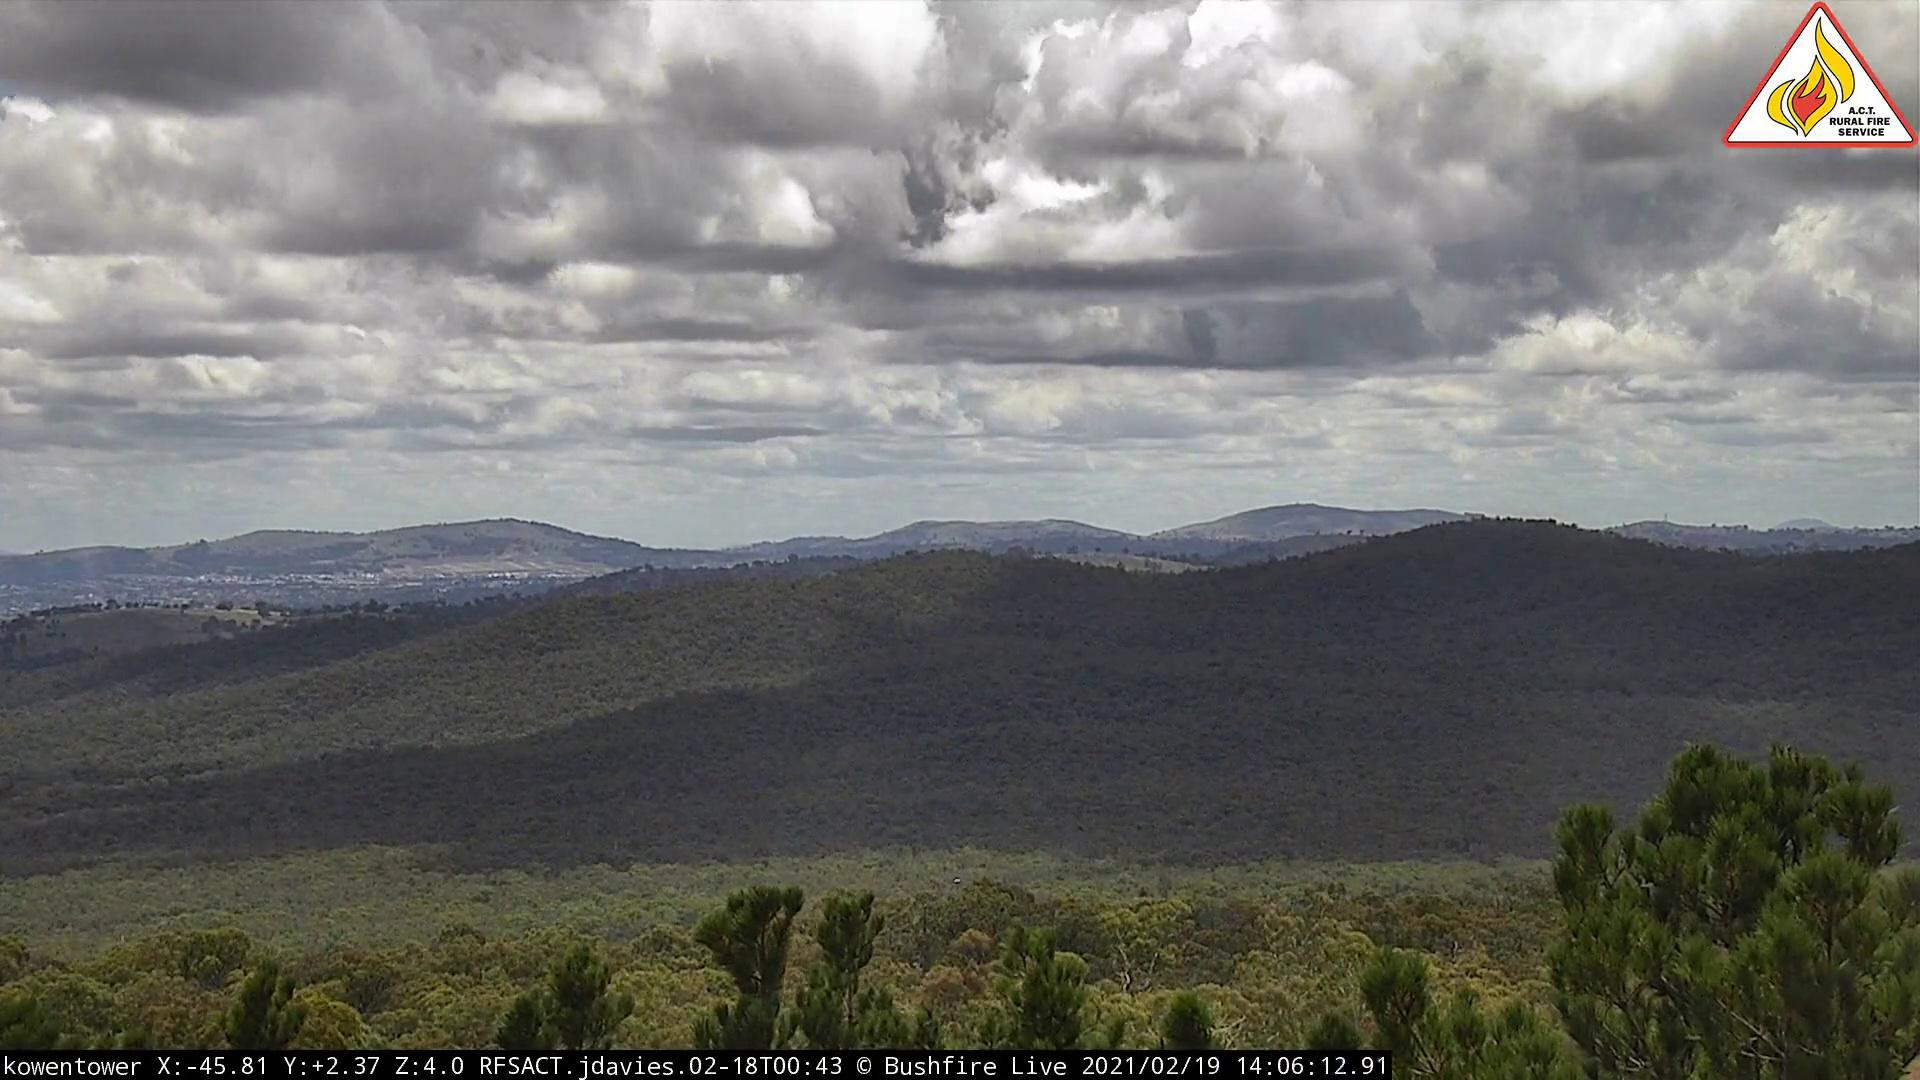instance_salient_object: (94, 585, 121, 622)
